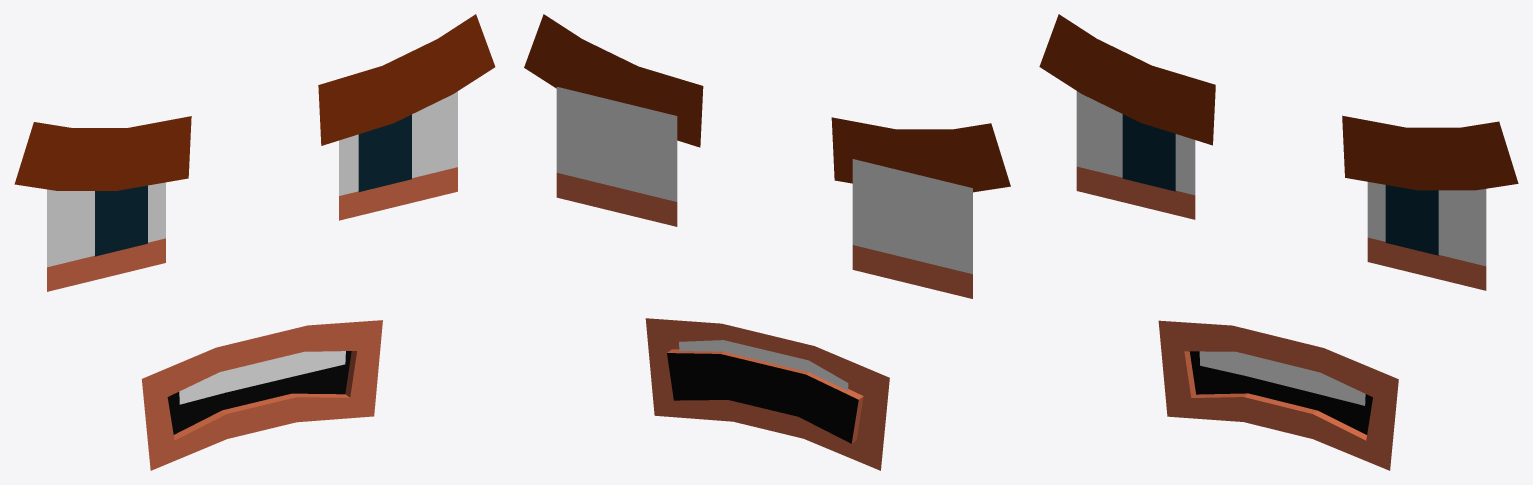
Rendered from Face Male 04.FBX.
3 renders of one model, left to right at view 1: azimuth 30°, elevation 25°; view 2: azimuth 150°, elevation 25°; view 3: azimuth 330°, elevation 25°, orthographic.
Parts seen in each view (by area): view 1: Face Male 04; view 2: Face Male 04; view 3: Face Male 04.
Boxes of the visible parts, box(x1,y1,x2,y2) form: Face Male 04: box(14, 14, 495, 470); Face Male 04: box(524, 14, 1010, 470); Face Male 04: box(1039, 14, 1518, 470).
Bounding box in the file's own units: 43.87 × 32.58 × 1.01.
Materials: 1 (1 with a texture image).
